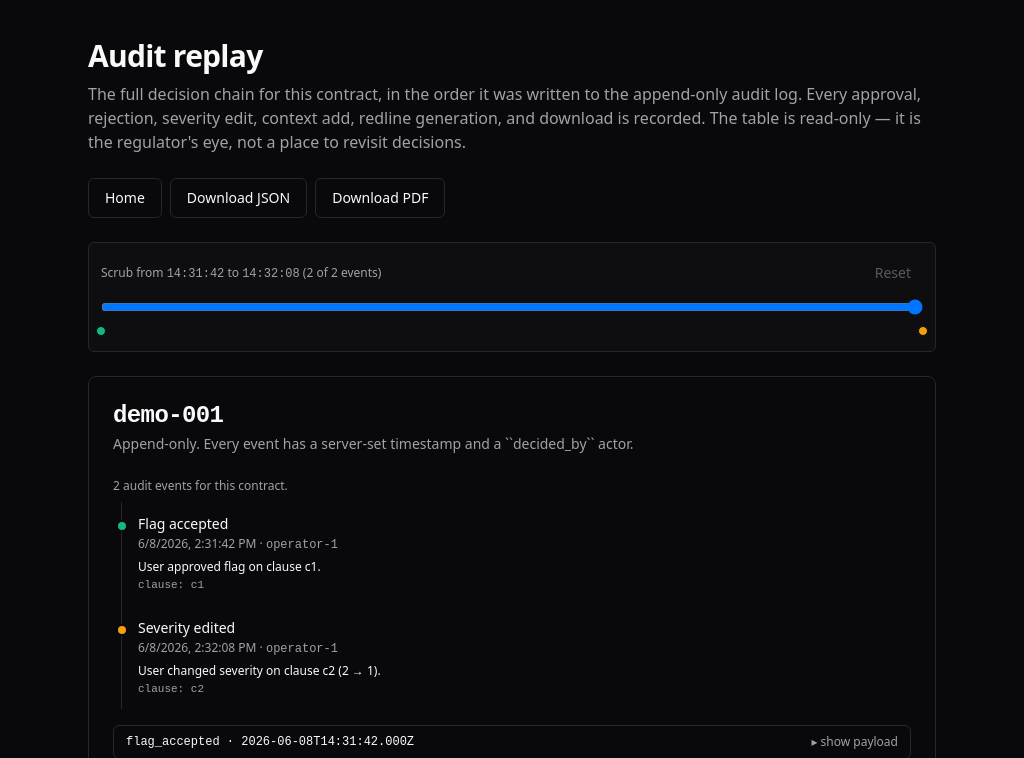
Scenario: AuditReplayPage › clicking a row disclosure expands the payload_json
Expected: the slider with test id "audit-scrub-slider" is shown, x1=101 y1=299 x2=923 y2=315
Click the button with test id "audit-row-toggle-0": (173,742) x1=114 y1=726 x2=910 y2=757
(page scrolled)
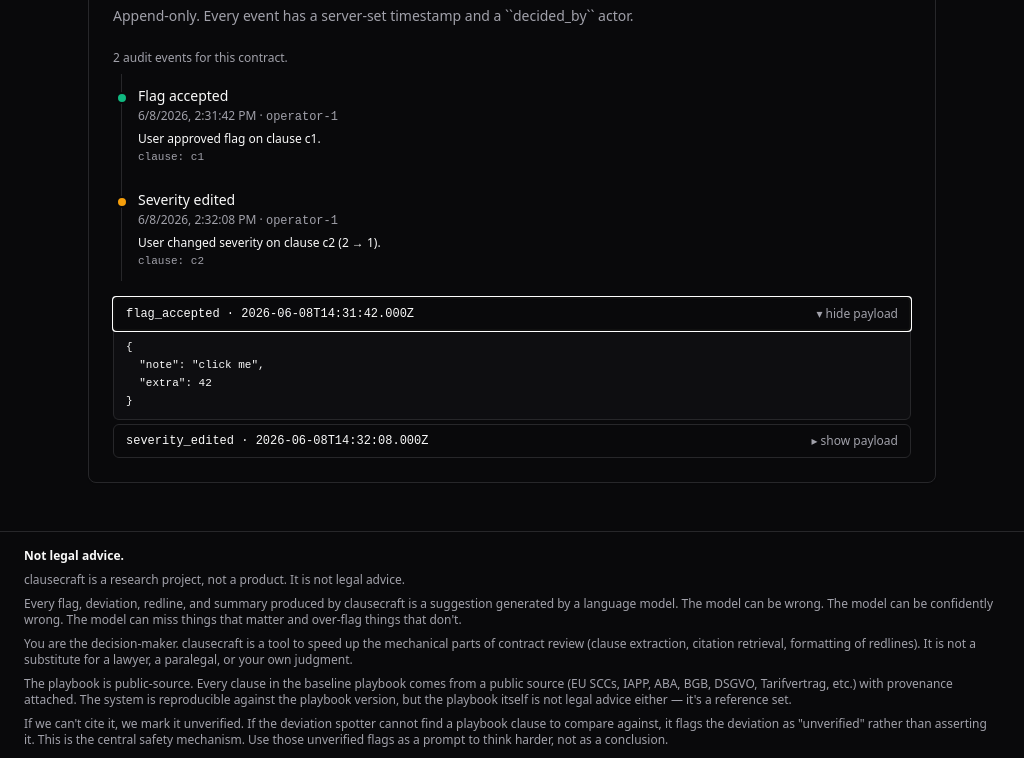
Result: the text with test id "audit-row-payload-0" shows "click me" at x1=126 y1=341 x2=265 y2=407
Result: the text with test id "audit-row-payload-0" shows "42" at x1=126 y1=341 x2=265 y2=407
